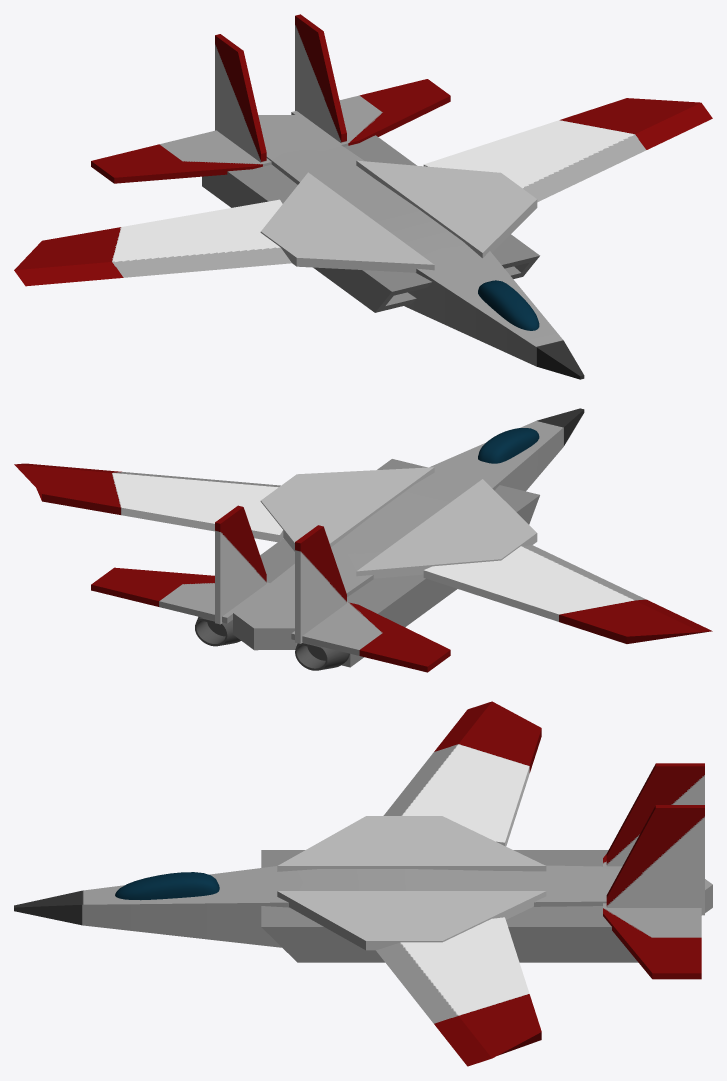
The picture shows the model from 3 angles, top to bottom: view 1: azimuth 30°, elevation 25°; view 2: azimuth 150°, elevation 25°; view 3: azimuth 270°, elevation 25°; orthographic projection. The views are drawn at different scales.
Visible parts, largest first — view 1: MA3; view 2: MA3; view 3: MA3.
Part boxes in pixels (x1,y1,x2,y2): MA3: (14, 14, 712, 379); MA3: (14, 408, 712, 672); MA3: (14, 701, 712, 1066).
Size of the model in its own units: 1716 by 326 by 1419.
Materials: 1 (1 with a texture image).
